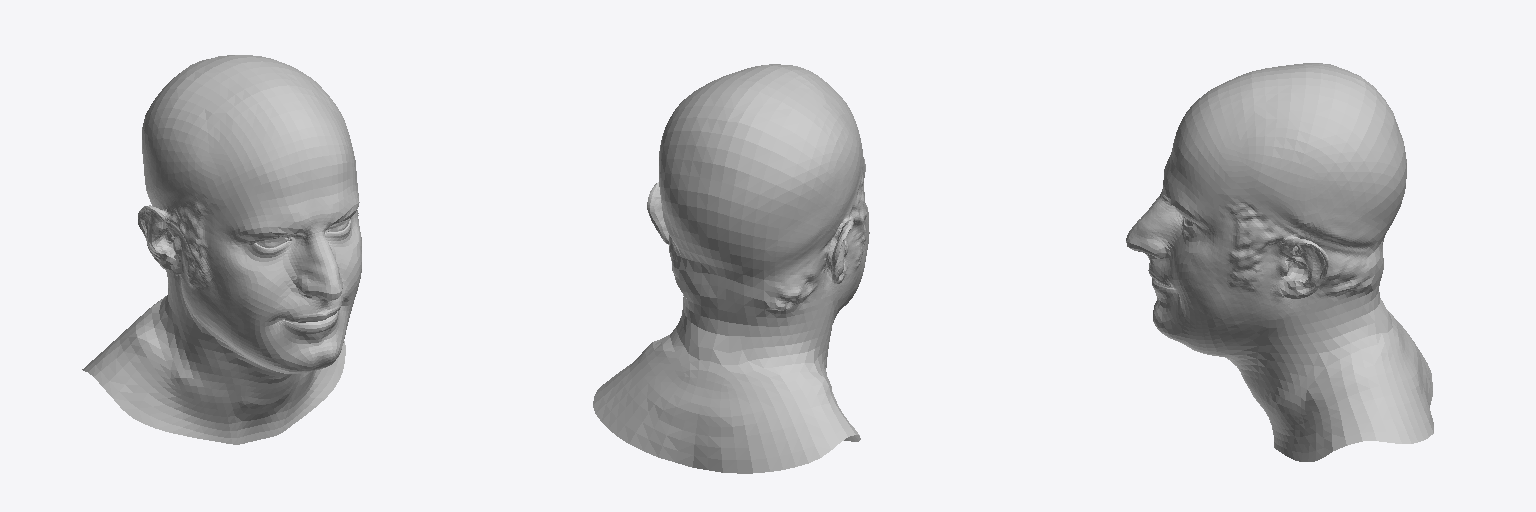
Rendered from head3_raw.obj.
3 renders of one model, left to right at view 1: azimuth 30°, elevation 25°; view 2: azimuth 150°, elevation 25°; view 3: azimuth 270°, elevation 25°, orthographic.
Parts seen in each view (by area): view 1: basemesh_2022_06_07_R3DS_V3_2:ZBrush_defualt_group; view 2: basemesh_2022_06_07_R3DS_V3_2:ZBrush_defualt_group; view 3: basemesh_2022_06_07_R3DS_V3_2:ZBrush_defualt_group.
Boxes of the visible parts, x1,y1,x2,y2 form: basemesh_2022_06_07_R3DS_V3_2:ZBrush_defualt_group: [82, 55, 361, 444]; basemesh_2022_06_07_R3DS_V3_2:ZBrush_defualt_group: [593, 64, 869, 473]; basemesh_2022_06_07_R3DS_V3_2:ZBrush_defualt_group: [1126, 63, 1433, 461].
Bounding box in the file's own units: 238 × 344 × 262.